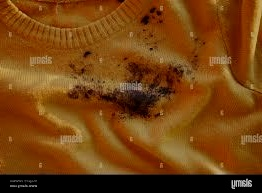earth: (105, 85, 171, 116), (125, 64, 184, 84), (69, 52, 91, 77), (68, 85, 94, 100), (141, 8, 164, 24)
